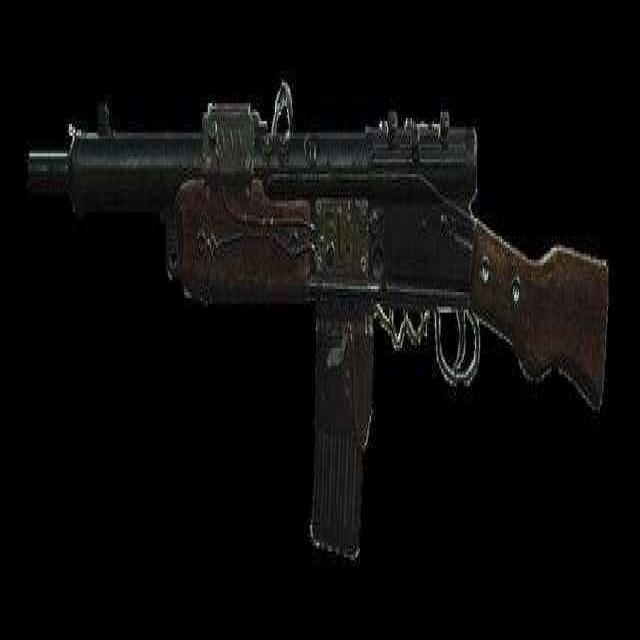heavyweapon: (21, 31, 623, 573)
